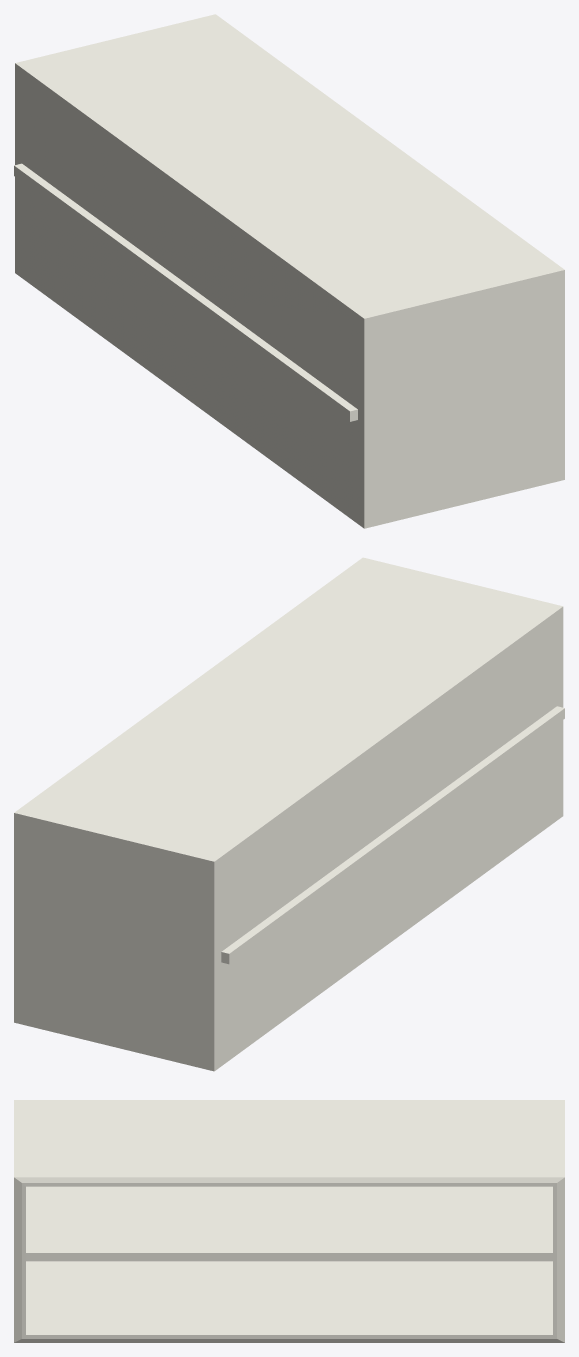
The model's file is Kitchen_Long_Pegion_Shelf.fbx.
3 views of the same model, one above another, from view 1: azimuth 30°, elevation 25°; view 2: azimuth 150°, elevation 25°; view 3: azimuth 270°, elevation 25° (orthographic). The views are drawn at different scales.
Visible parts, largest first — view 1: Long_Opened_Shelf; view 2: Long_Opened_Shelf; view 3: Long_Opened_Shelf.
Boxes of the visible parts, x1=… form: Long_Opened_Shelf: x1=14, y1=14, x2=564, y2=528; Long_Opened_Shelf: x1=14, y1=557, x2=564, y2=1071; Long_Opened_Shelf: x1=14, y1=1100, x2=564, y2=1342.
Size of the model in its own units: 20.97 by 19.97 by 60.23.
